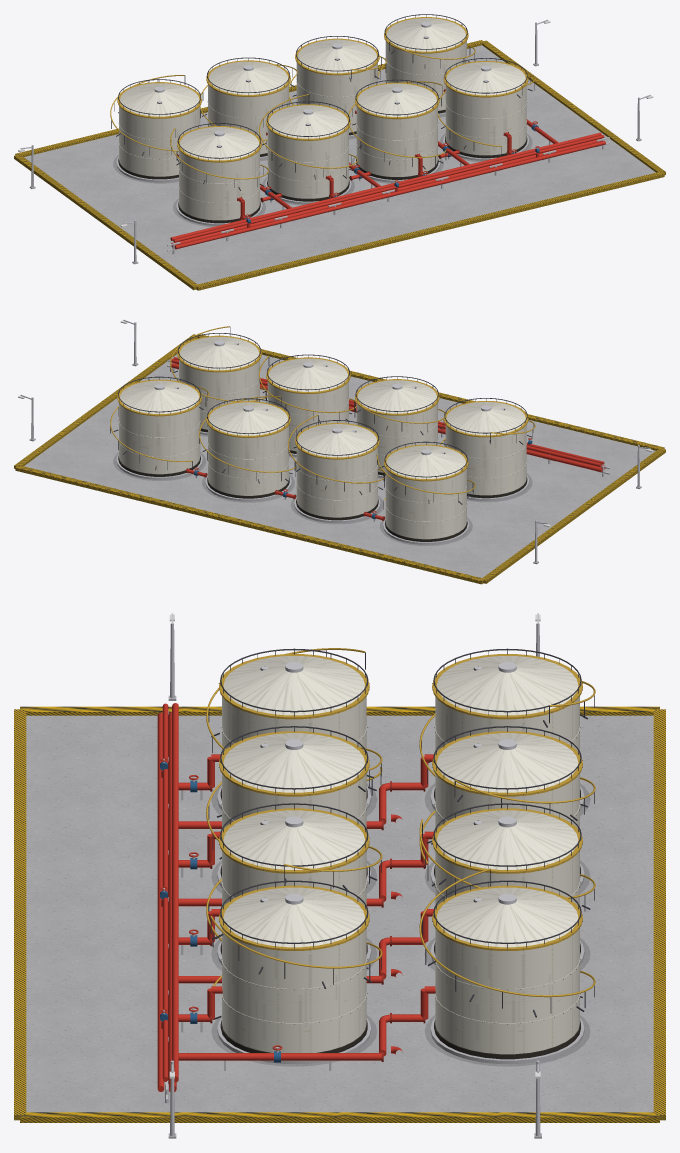
3 renders of one model, top to bottom at view 1: azimuth 30°, elevation 25°; view 2: azimuth 150°, elevation 25°; view 3: azimuth 270°, elevation 25°, orthographic. The views are drawn at different scales.
Parts seen in each view (by area): view 1: object 1, object 221, object 165, object 193, object 137, object 25, object 81, object 109, object 53, object 112, object 28, object 140 (+28 smaller); view 2: object 1, object 25, object 53, object 109, object 81, object 137, object 165, object 193, object 221, object 84, object 56, object 112 (+26 smaller); view 3: object 1, object 109, object 221, object 112, object 224, object 84, object 168, object 140, object 28, object 196, object 56, object 165 (+39 smaller).
Boxes of the visible parts, bbox=[...] form: object 1: bbox=[24, 45, 655, 289]; object 221: bbox=[445, 85, 526, 155]; object 165: bbox=[267, 128, 348, 198]; object 193: bbox=[356, 106, 437, 176]; object 137: bbox=[179, 150, 259, 220]; object 25: bbox=[119, 106, 200, 176]; object 81: bbox=[296, 62, 377, 132]; object 109: bbox=[385, 41, 466, 110]; object 53: bbox=[208, 84, 288, 154]; object 112: bbox=[386, 18, 465, 51]; object 28: bbox=[120, 83, 199, 116]; object 140: bbox=[179, 127, 259, 160]; object 1: bbox=[24, 354, 655, 583]; object 25: bbox=[385, 468, 466, 539]; object 53: bbox=[296, 447, 377, 517]; object 109: bbox=[119, 403, 200, 474]; object 81: bbox=[208, 425, 288, 495]; object 137: bbox=[445, 425, 526, 495]; object 165: bbox=[356, 403, 437, 472]; object 193: bbox=[267, 381, 348, 451]; object 221: bbox=[179, 360, 259, 429]; object 84: bbox=[209, 402, 288, 435]; object 56: bbox=[297, 424, 376, 457]; object 112: bbox=[120, 380, 199, 413]; object 1: bbox=[26, 715, 653, 1112]; object 109: bbox=[435, 928, 579, 1054]; object 221: bbox=[222, 928, 366, 1052]; object 112: bbox=[436, 887, 578, 947]; object 224: bbox=[223, 887, 364, 947]; object 84: bbox=[436, 810, 578, 869]; object 168: bbox=[223, 733, 364, 792]; object 140: bbox=[223, 656, 364, 715]; object 28: bbox=[436, 656, 578, 715]; object 196: bbox=[223, 810, 364, 869]; object 56: bbox=[437, 733, 578, 792]; object 165: bbox=[222, 774, 366, 830].
Bounding box in the file's own units: 144 × 19.78 × 85.6.
Materials: 24 (5 with a texture image).
